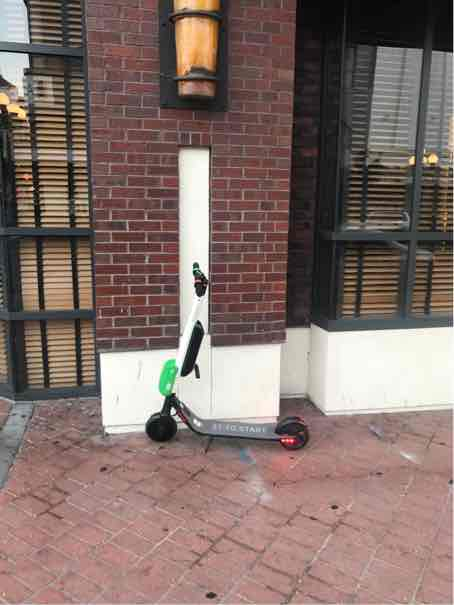scooter: (138, 215, 323, 447)
